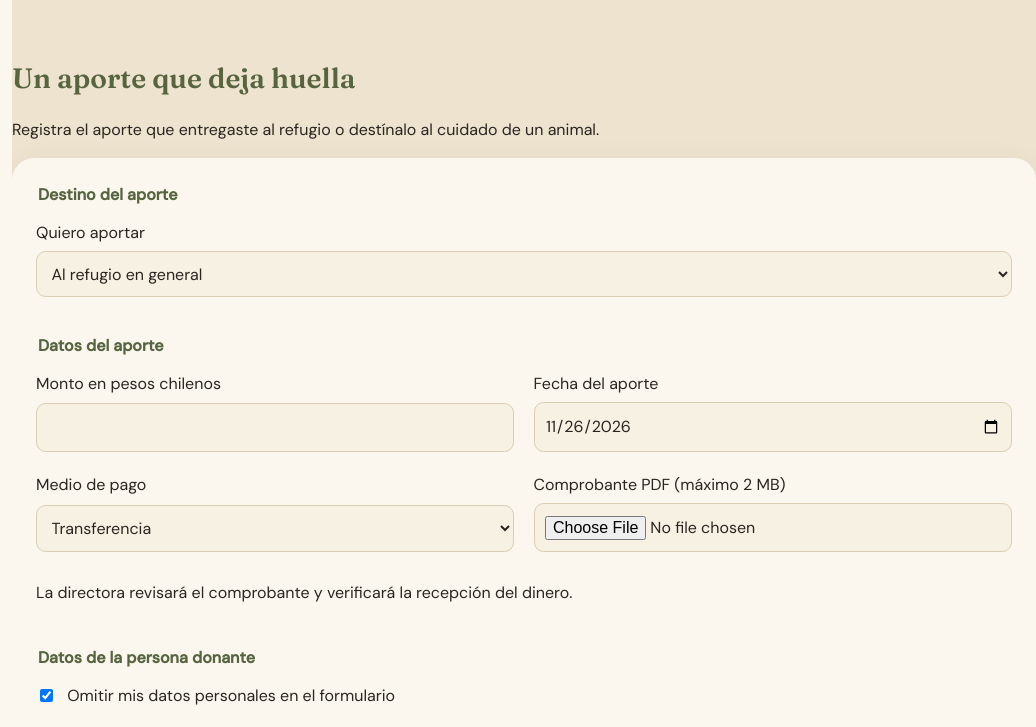
Test case: apadrinar solicita el animal y los datos de contacto
Select "Al cuidado de un animal" in the dropdown labelled "Quiero aportar": {"x": 524, "y": 274} [36,251,1012,297]
(page scrolled)
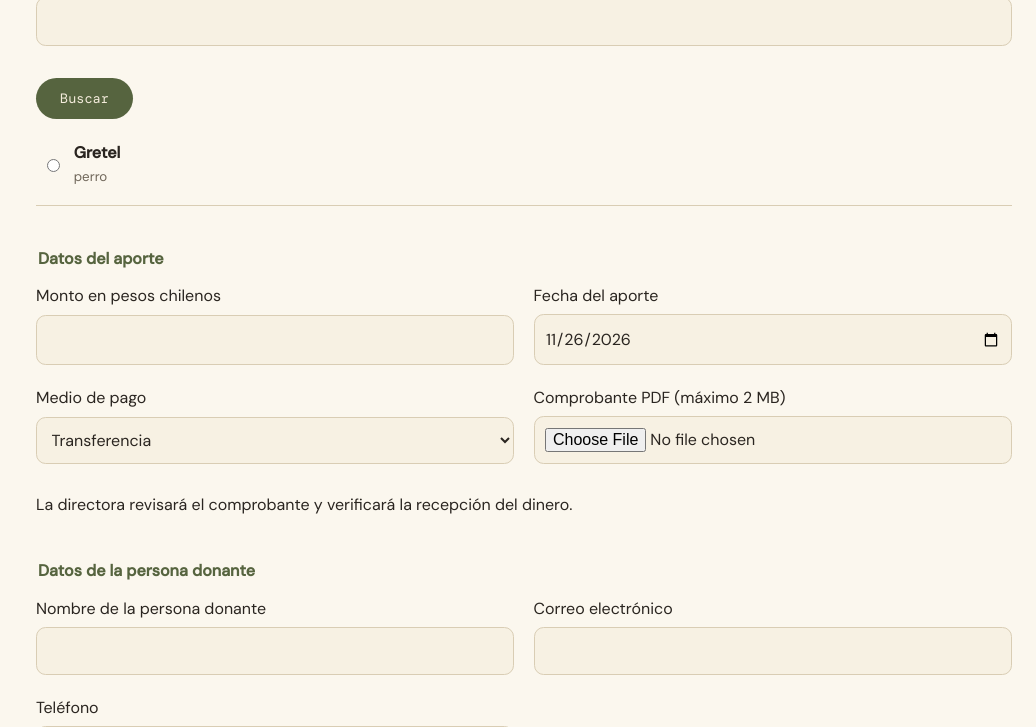
Expected: the field labelled "Correo electrónico" is shown, [534,627,1012,675]
Expected: the text "Gretel" is shown, [74,142,120,163]
Expected: the label labelled "Omitir mis datos personales en el formulario" is gone
Submit the form named "Registrar donación"
(page scrolled)
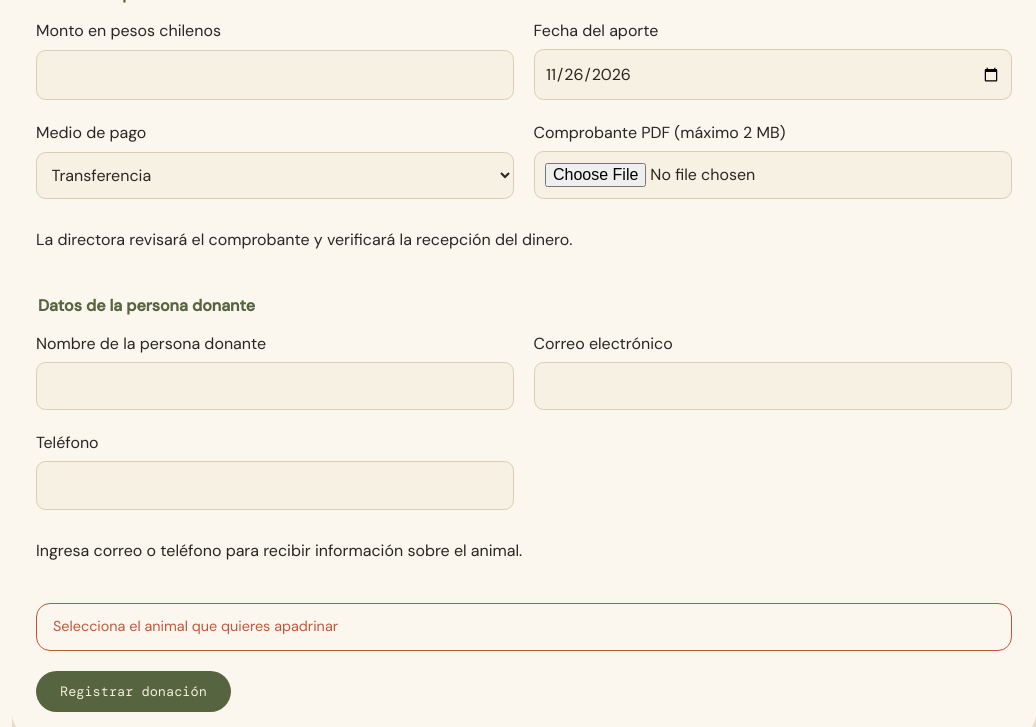
Expected: the message shows "Selecciona el animal", [53,617,338,635]
